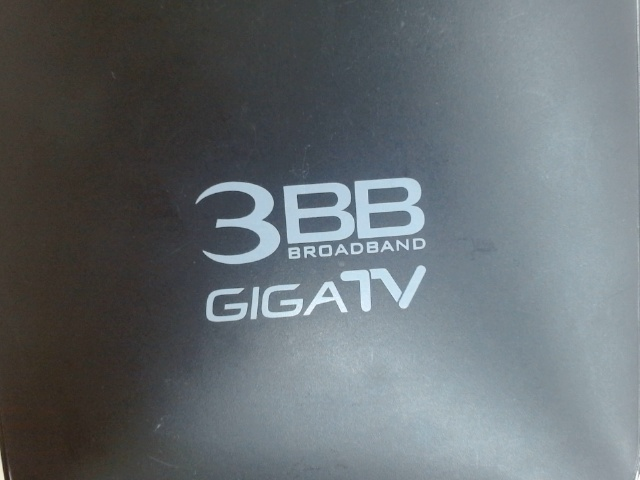AG_3BB: (184, 169, 450, 342)
